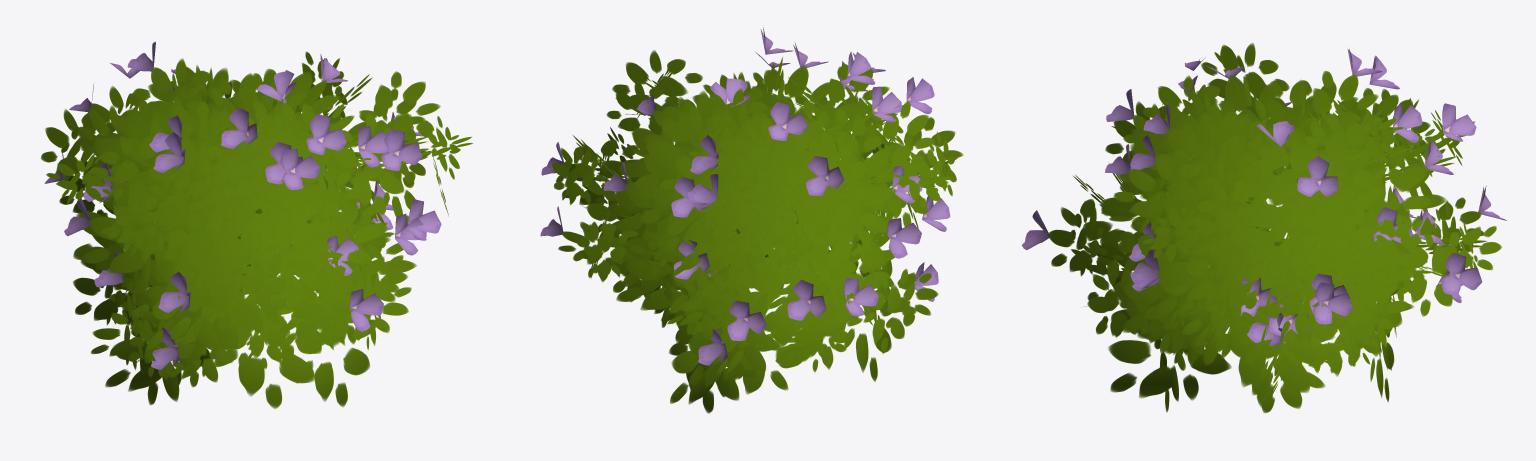
Rendered from bush_bloom.glb.
The picture shows the model from 3 angles, left to right: view 1: azimuth 30°, elevation 25°; view 2: azimuth 150°, elevation 25°; view 3: azimuth 270°, elevation 25°; orthographic projection. The views are drawn at different scales.
Visible parts, largest first — view 1: Bush_Common_Flowers; view 2: Bush_Common_Flowers; view 3: Bush_Common_Flowers.
Part boxes in pixels (<box>): Bush_Common_Flowers: <box>41,41,473,408</box>; Bush_Common_Flowers: <box>540,27,963,413</box>; Bush_Common_Flowers: <box>1022,43,1506,412</box>.
Size of the model in its own units: 1.91 by 1.58 by 1.97.
Materials: 2 (2 with a texture image).
